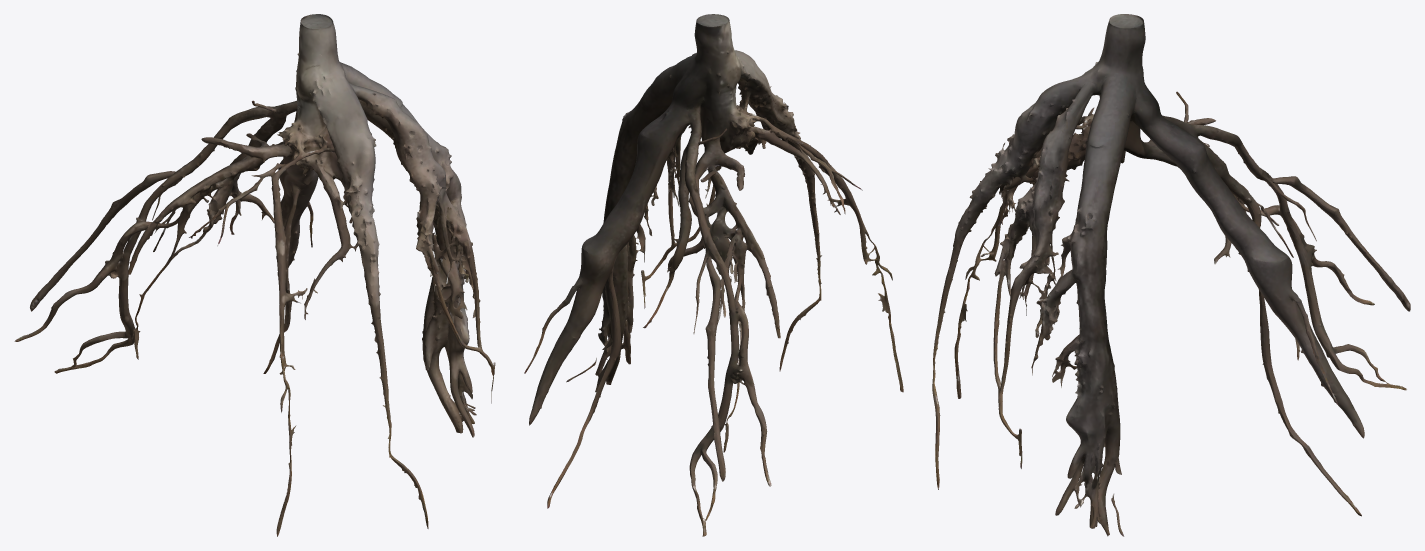
Rendered from saknes.glb.
The picture shows the model from 3 angles, left to right: view 1: azimuth 30°, elevation 25°; view 2: azimuth 150°, elevation 25°; view 3: azimuth 270°, elevation 25°; orthographic projection. The views are drawn at different scales.
Visible parts, largest first — view 1: model; view 2: model; view 3: model.
Part boxes in pixels (x1=…): model: x1=14, y1=14, x2=495, y2=536; model: x1=524, y1=14, x2=903, y2=536; model: x1=932, y1=14, x2=1410, y2=536.
Bounding box in the file's own units: 2.11 × 2.68 × 2.51.
Materials: 1 (1 with a texture image).
